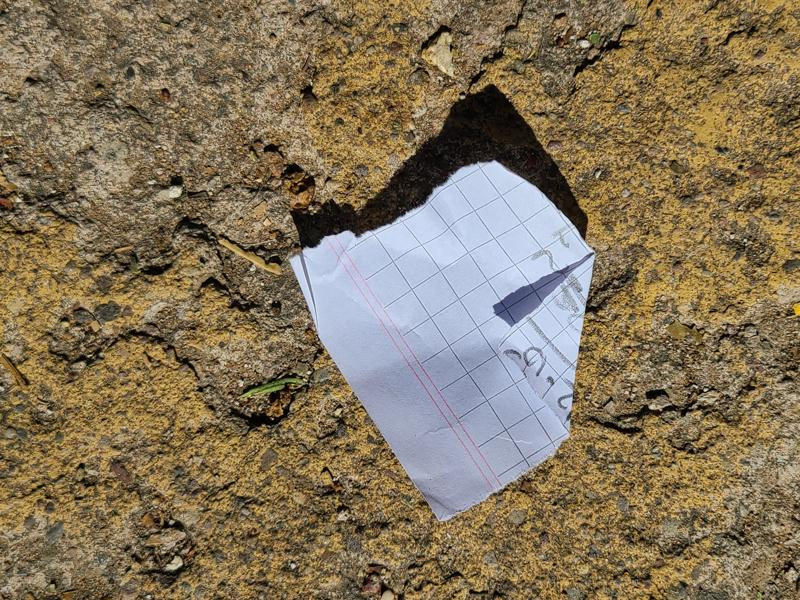papel: (288, 159, 595, 524)
